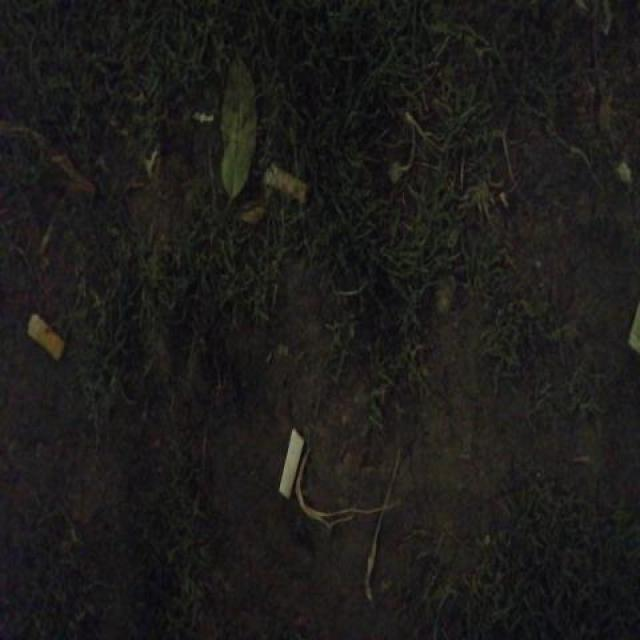non-organic waste: (274, 419, 309, 502), (260, 158, 312, 210), (22, 306, 67, 366)
